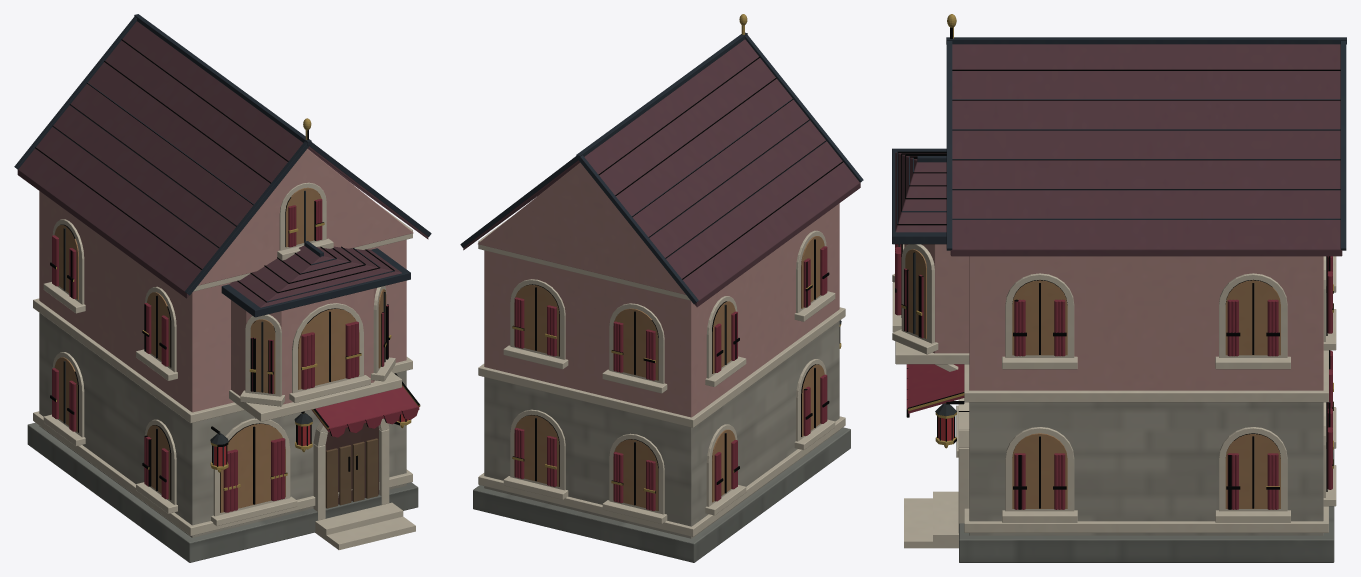
File: CrimsonRowhouse.fbx
3 renders of one model, left to right at view 1: azimuth 30°, elevation 25°; view 2: azimuth 150°, elevation 25°; view 3: azimuth 270°, elevation 25°, orthographic. The views are drawn at different scales.
Visible parts, largest first — view 1: CrimsonRowhouse.001; view 2: CrimsonRowhouse.001; view 3: CrimsonRowhouse.001.
Part boxes in pixels (bbox=[...]): CrimsonRowhouse.001: bbox=[14, 14, 431, 562]; CrimsonRowhouse.001: bbox=[460, 14, 863, 562]; CrimsonRowhouse.001: bbox=[892, 14, 1346, 562].
Size of the model in its own units: 5.78 by 9.47 by 8.06.
